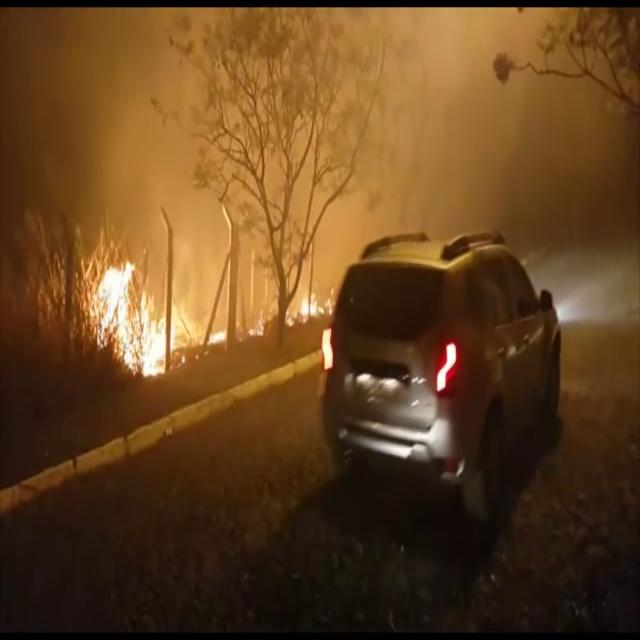fire: (99, 276, 162, 374)
